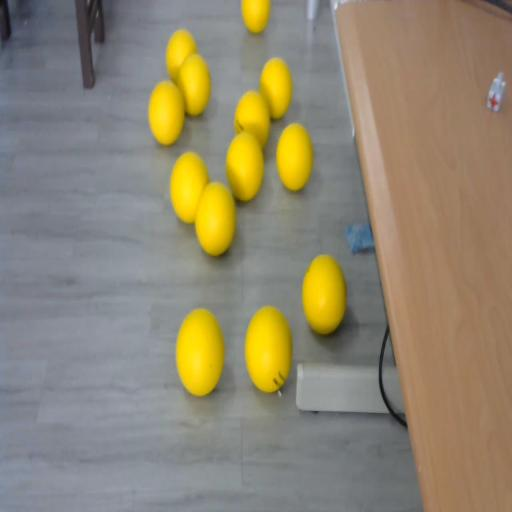FUEL: (174, 307, 226, 396), (244, 304, 294, 392), (301, 252, 347, 334), (194, 180, 237, 257), (225, 131, 265, 201), (276, 122, 313, 192), (148, 80, 184, 145), (178, 52, 212, 117), (260, 57, 293, 119), (241, 0, 270, 33)
